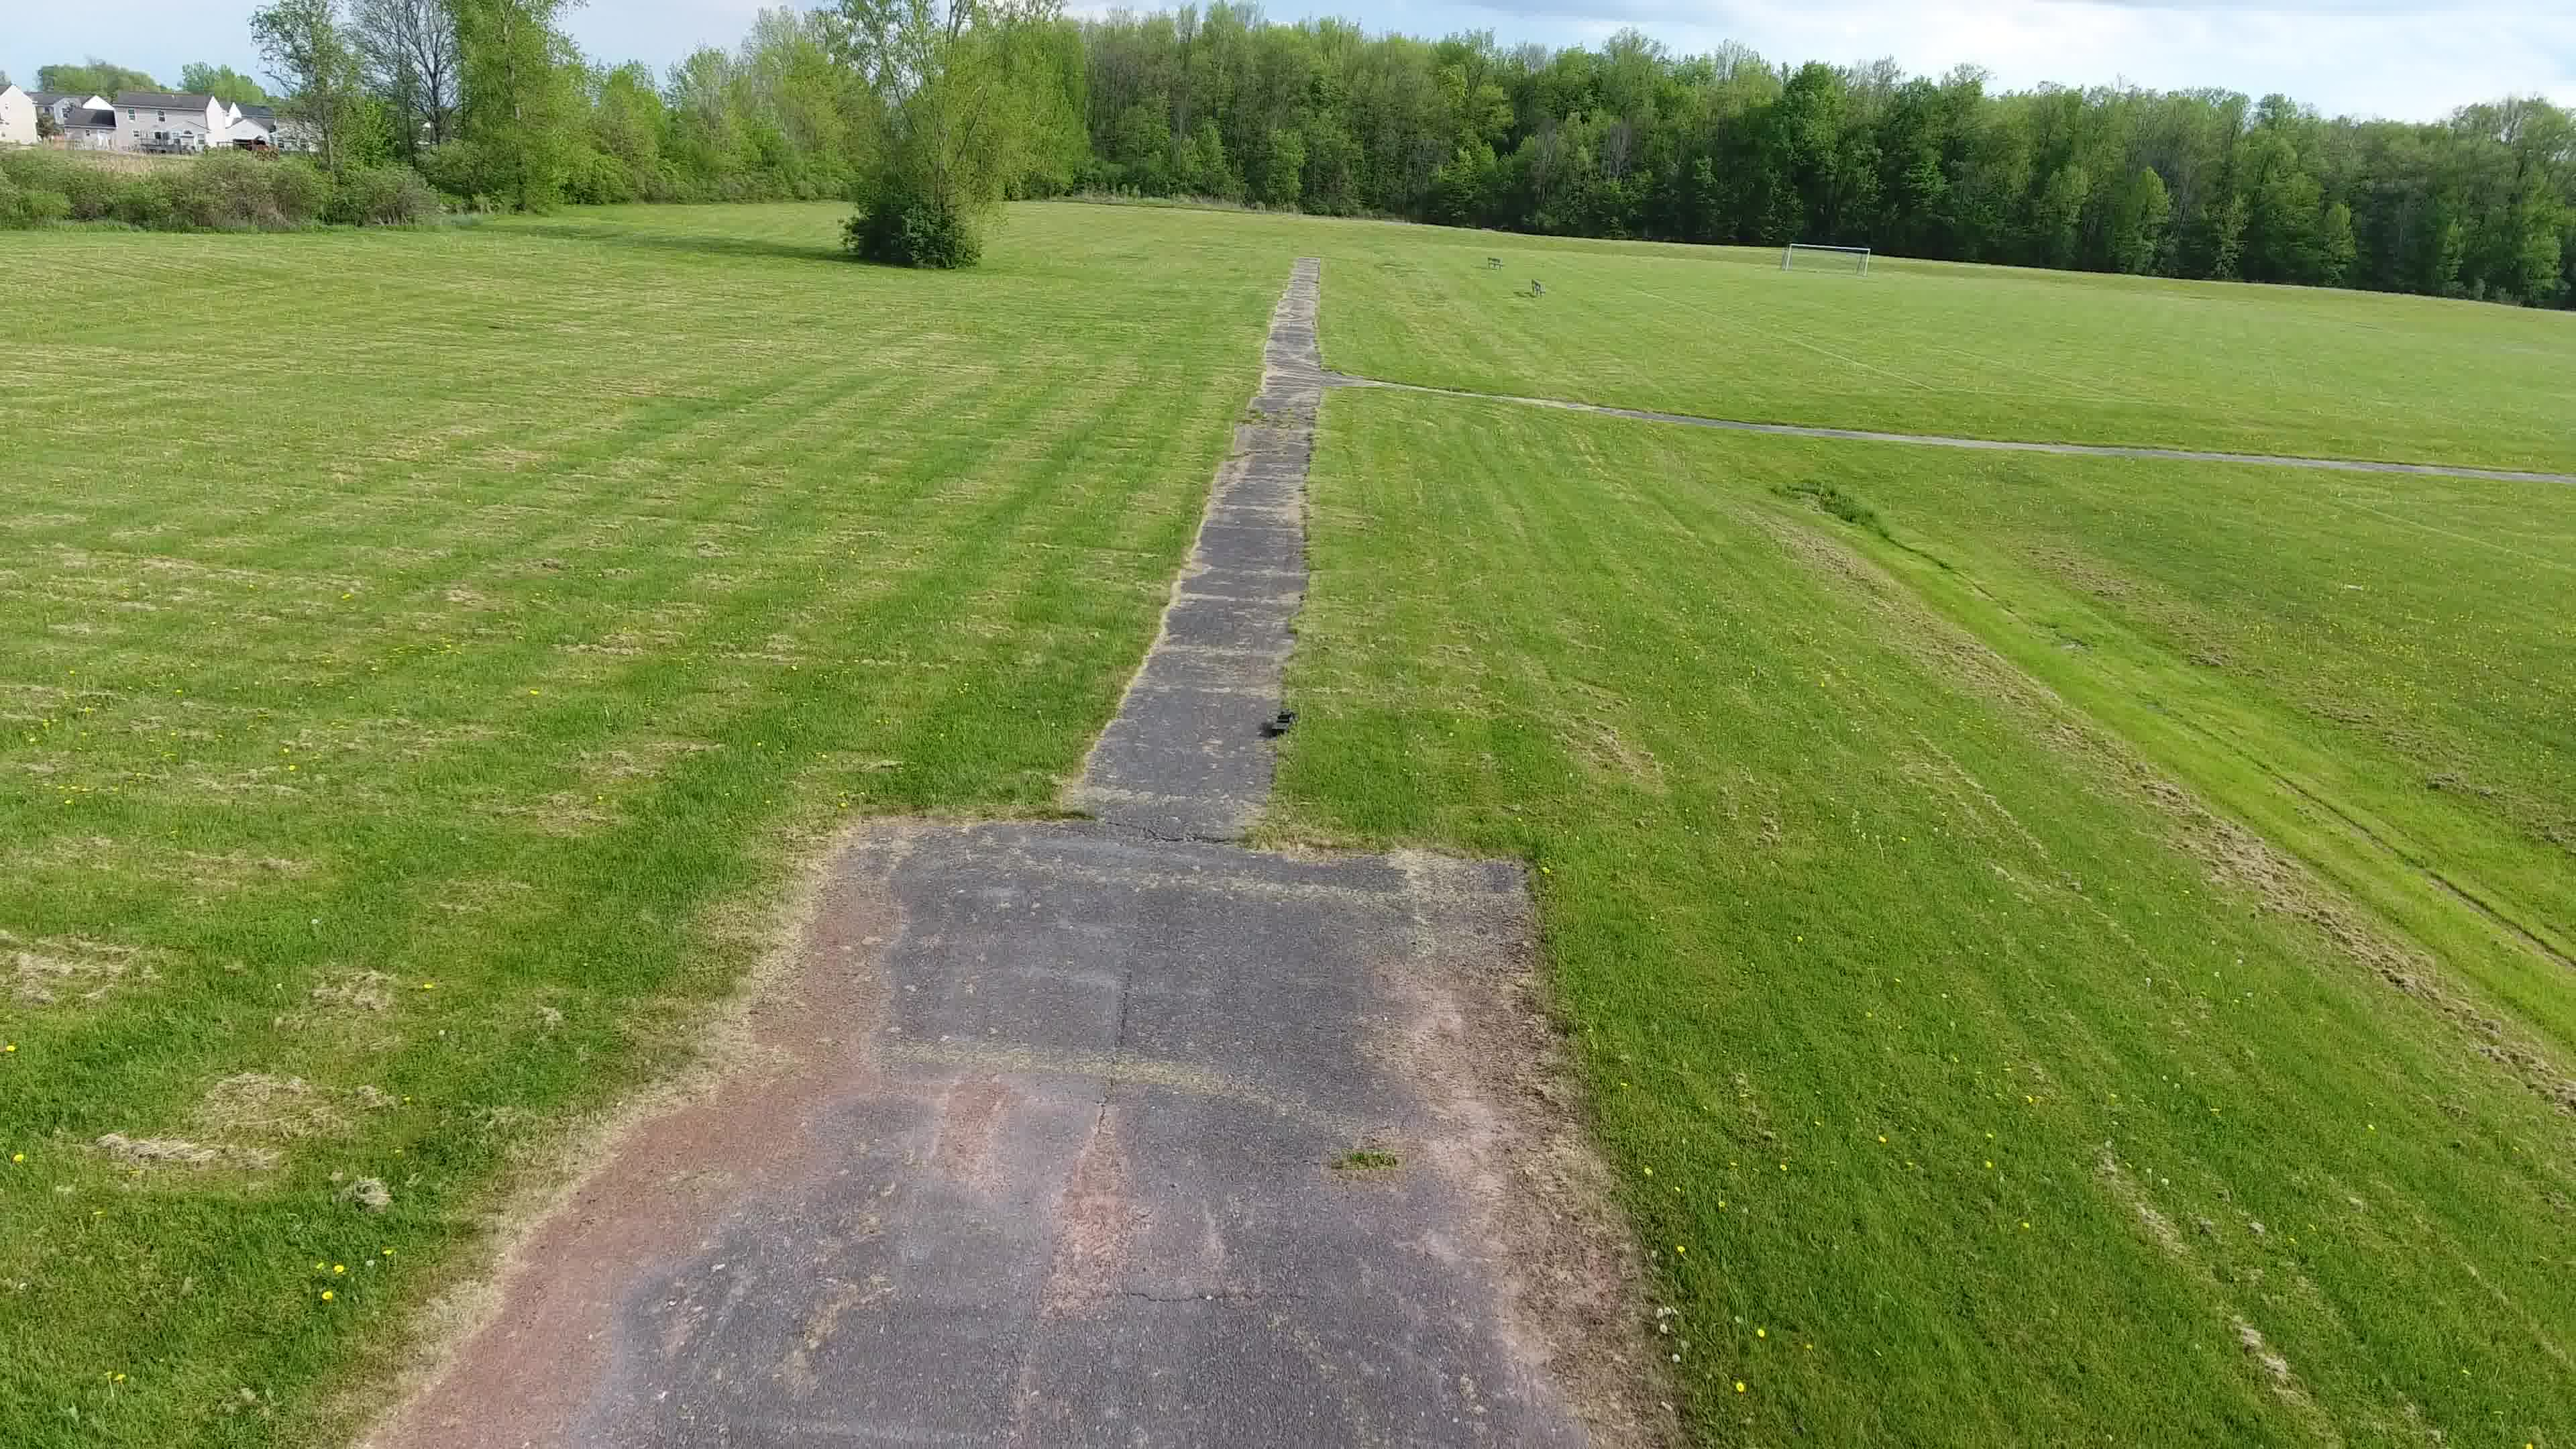transporter9_camo: (1267, 709, 1299, 738)
